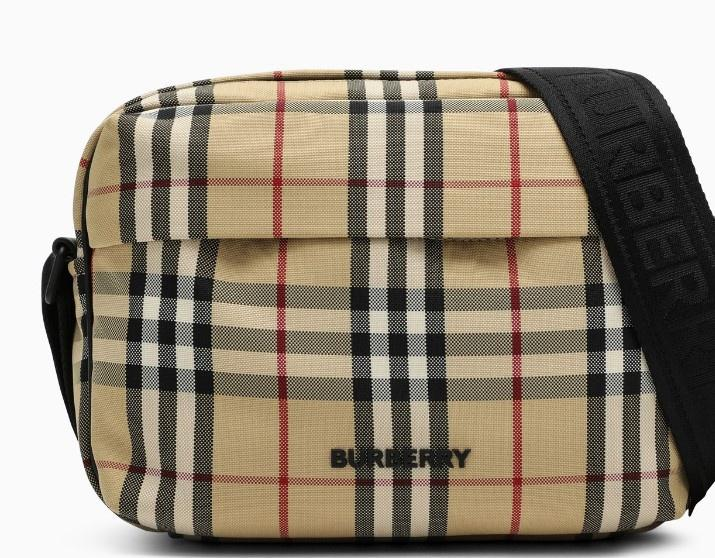BURBERRY: (331, 448, 471, 468)
